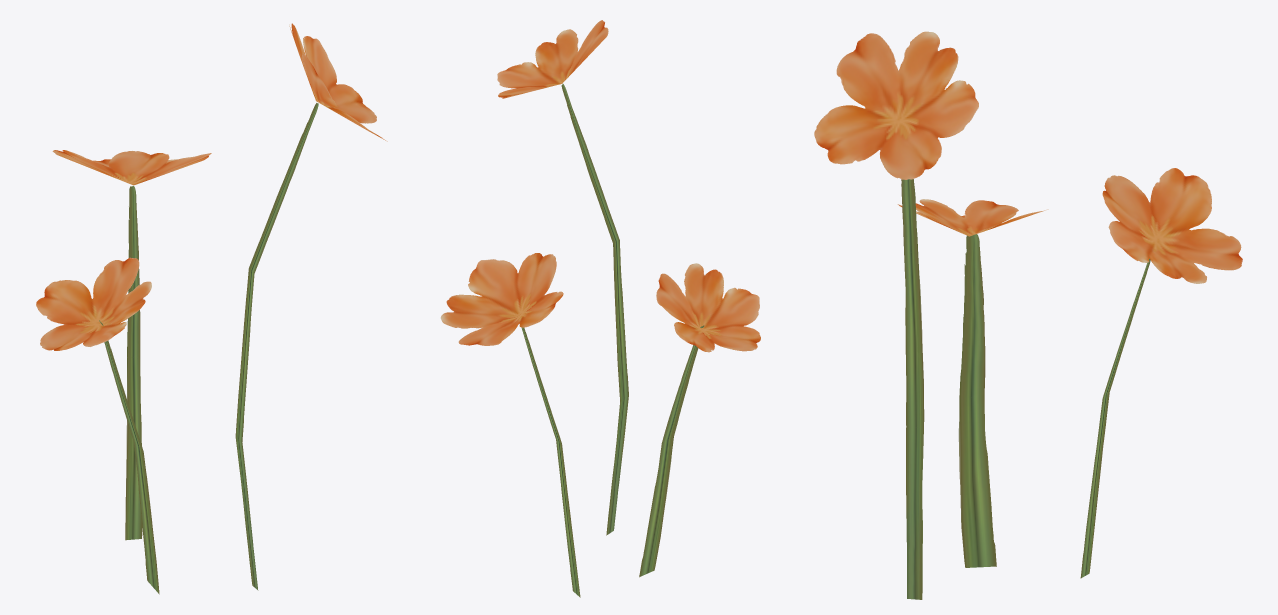
The model's file is SM_Ground_Orange_Flower_B.fbx.
The picture shows the model from 3 angles, left to right: view 1: azimuth 30°, elevation 25°; view 2: azimuth 150°, elevation 25°; view 3: azimuth 270°, elevation 25°; orthographic projection. The views are drawn at different scales.
Visible parts, largest first — view 1: SM_Ground_Orange_Flower_B; view 2: SM_Ground_Orange_Flower_B; view 3: SM_Ground_Orange_Flower_B.
Boxes of the visible parts, x1,y1,x2,y2 form: SM_Ground_Orange_Flower_B: (36, 23, 387, 594); SM_Ground_Orange_Flower_B: (440, 20, 760, 597); SM_Ground_Orange_Flower_B: (814, 31, 1242, 599).
Size of the model in its own units: 21.42 by 23.7 by 34.46.
1 material, 1 textured.
